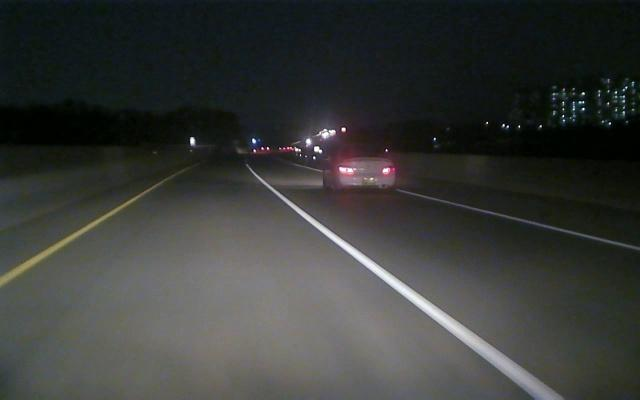lane: (252, 171, 565, 398), (405, 191, 640, 253), (2, 198, 136, 286)
